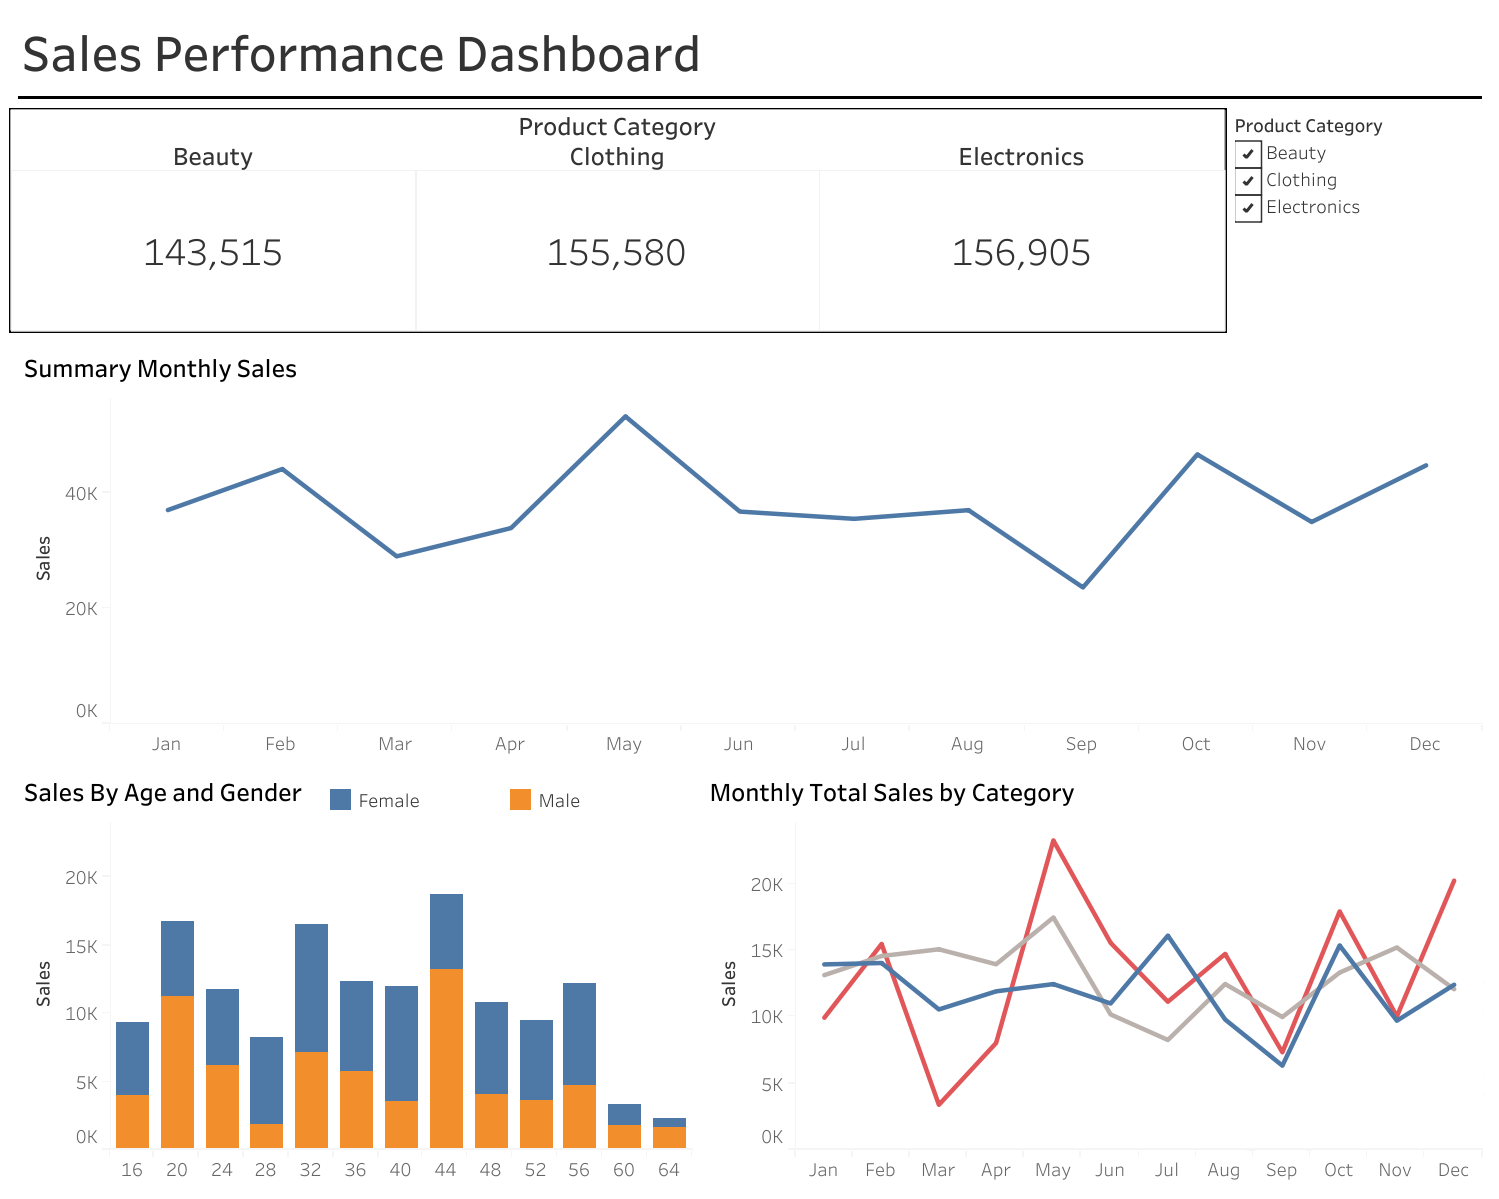

This screenshot's page, from the dashboard's own definition file:
{"tool":"tableau","page":{"name":"Dashboard 1","canvas":[1000,800],"ordinal":0},"visuals":[{"type":"title","box":[8,8,984,52]},{"type":"blank","box":[8,60,984,10]},{"type":"legend","title":"Monthly Total Sales by Category","param":"[federated.1tmwqk50efi3tk18k9y7l0jpqcwn].[none:Product Category:nk]","box":[8,70,984,87]},{"type":"worksheet","title":"Total Sales by Category","mark":"Automatic","cols":["Product Category"],"box":[6,72,812,150]},{"type":"filter","title":"Sales by Age/Gender","param":"[federated.1tmwqk50efi3tk18k9y7l0jpqcwn].[none:Product Category:nk]","box":[823,73,168,150]},{"type":"worksheet","title":"Summary Monthly Sales","mark":"Automatic","rows":["Total Amount"],"cols":["Date"],"box":[8,223,984,283.5]},{"type":"worksheet","title":"Sales by Age/Gender","mark":"Automatic","rows":["Total Amount"],"cols":["Age (bin)"],"box":[8,506.5,457,285.5]},{"type":"worksheet","title":"Monthly Total Sales by Category","mark":"Automatic","rows":["Total Amount"],"cols":["Date"],"box":[465,506.5,527,285.5]},{"type":"legend","title":"Sales by Age/Gender","param":"[federated.1tmwqk50efi3tk18k9y7l0jpqcwn].[none:Gender:nk]","box":[217,523,238,24]}]}

Visuals, with their boxes in screenshot pixels (x1, y1, x2, y2), scaled from the page's 1000x800 canvas onto the 1499x1199 screenshot:
title: 12/12/1487/90
blank: 12/90/1487/105
"Monthly Total Sales by Category" legend: 12/105/1487/235
"Total Sales by Category" worksheet: 9/108/1226/333
"Sales by Age/Gender" filter: 1234/109/1486/334
"Summary Monthly Sales" worksheet: 12/334/1487/759
"Sales by Age/Gender" worksheet: 12/759/697/1187
"Monthly Total Sales by Category" worksheet: 697/759/1487/1187
"Sales by Age/Gender" legend: 325/784/682/820
